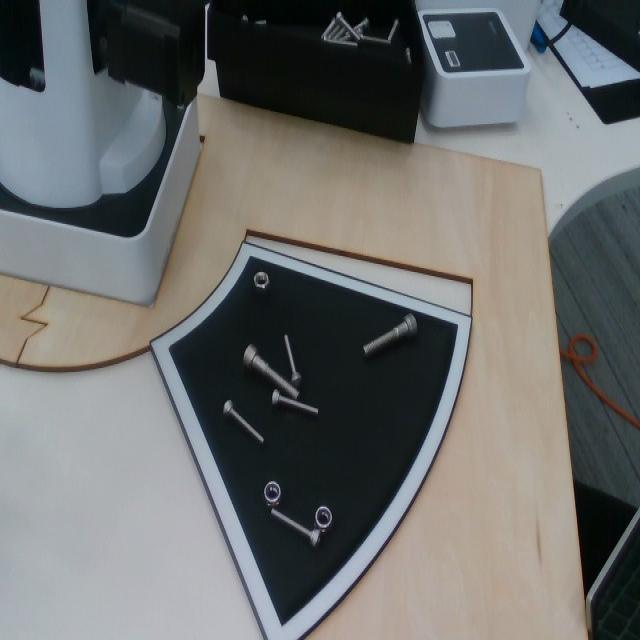big: (238, 337, 304, 403), (361, 307, 426, 361)
circle: (262, 476, 285, 508), (314, 503, 335, 531), (250, 268, 274, 291)
small: (265, 505, 326, 551), (221, 396, 268, 449), (267, 386, 325, 420), (279, 329, 305, 390)
